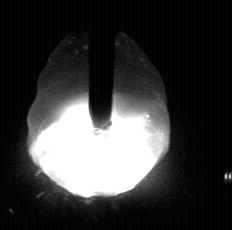arame: (90, 0, 113, 130)
poca: (28, 0, 169, 230)
